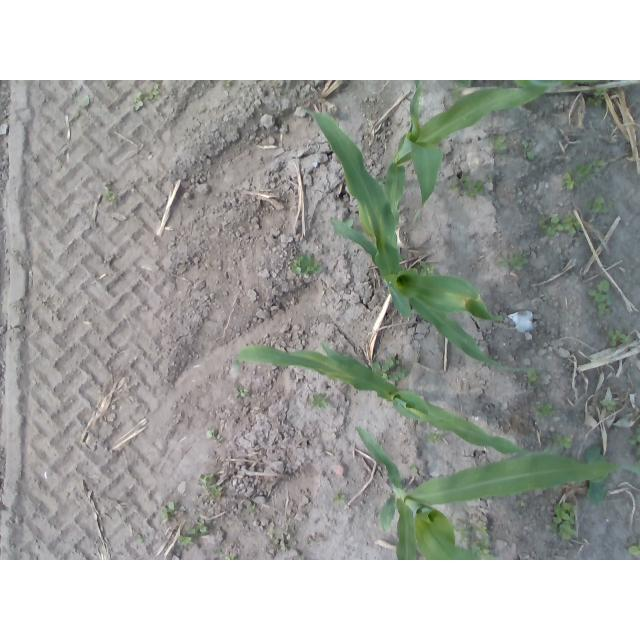Maize: (298, 106, 518, 371), (355, 428, 639, 561), (235, 344, 530, 457), (395, 80, 574, 226)
Weeds: (555, 500, 578, 541), (287, 255, 321, 274), (538, 213, 563, 235), (589, 281, 611, 304), (589, 481, 608, 504), (629, 424, 640, 459), (474, 541, 494, 559), (564, 216, 581, 236), (460, 174, 473, 198), (489, 134, 508, 150), (586, 445, 603, 462), (513, 253, 528, 271), (593, 153, 607, 172), (563, 171, 577, 190), (607, 331, 626, 345), (522, 140, 535, 160), (281, 530, 296, 547), (311, 393, 329, 407), (197, 474, 212, 490), (576, 163, 592, 177), (418, 261, 434, 275), (146, 84, 159, 101), (539, 403, 553, 418), (498, 250, 511, 266), (134, 89, 143, 111), (559, 434, 573, 447), (75, 94, 89, 107), (457, 526, 470, 539), (474, 180, 486, 194), (426, 433, 441, 444), (163, 502, 176, 514), (599, 302, 610, 316), (333, 494, 346, 505), (179, 535, 193, 545), (587, 97, 601, 107), (481, 522, 490, 537), (391, 371, 406, 380), (386, 358, 401, 367), (525, 371, 537, 382), (593, 199, 605, 210), (371, 362, 385, 371), (211, 485, 223, 495), (199, 520, 208, 533), (237, 388, 250, 397), (629, 544, 640, 554), (604, 402, 616, 411), (450, 179, 458, 192), (224, 552, 236, 560), (105, 192, 115, 201), (245, 505, 255, 513), (596, 89, 605, 97), (410, 466, 418, 475), (207, 430, 215, 439), (517, 499, 525, 506), (222, 80, 231, 86), (215, 551, 222, 558), (138, 534, 143, 543), (186, 528, 195, 533)
